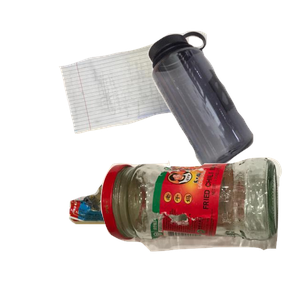glass: (98, 155, 300, 300)
paper: (56, 40, 229, 166)
plastic: (145, 28, 300, 192)
trash: (66, 173, 272, 300)
